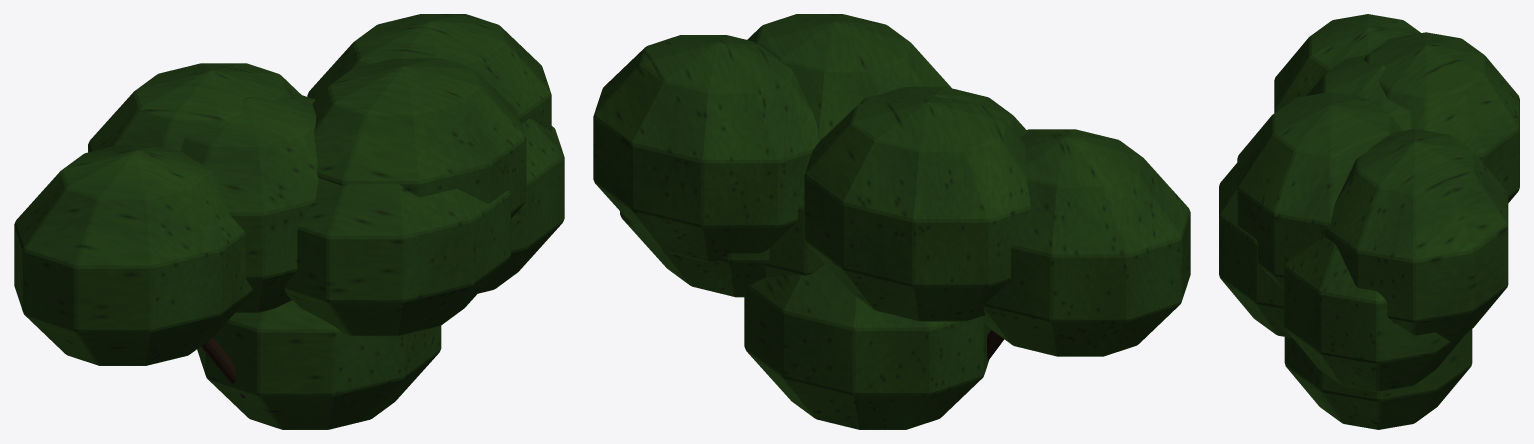
File: PROP-1BA4EAB36F19_lod1.glb
3 views of the same model, side by side, from view 1: azimuth 30°, elevation 25°; view 2: azimuth 150°, elevation 25°; view 3: azimuth 270°, elevation 25° (orthographic). The views are drawn at different scales.
Visible parts, largest first — view 1: foliage.013, plant_stem.013; view 2: foliage.013; view 3: foliage.013.
Part boxes in pixels (left/top/right/bottom): foliage.013: left=14, top=14, right=564, bottom=429; plant_stem.013: left=201, top=337, right=245, bottom=397; foliage.013: left=593, top=14, right=1190, bottom=429; foliage.013: left=1219, top=14, right=1519, bottom=429.
Bounding box in the file's own units: 1.37 × 0.8664 × 0.6963.
2 materials, 2 textured.
